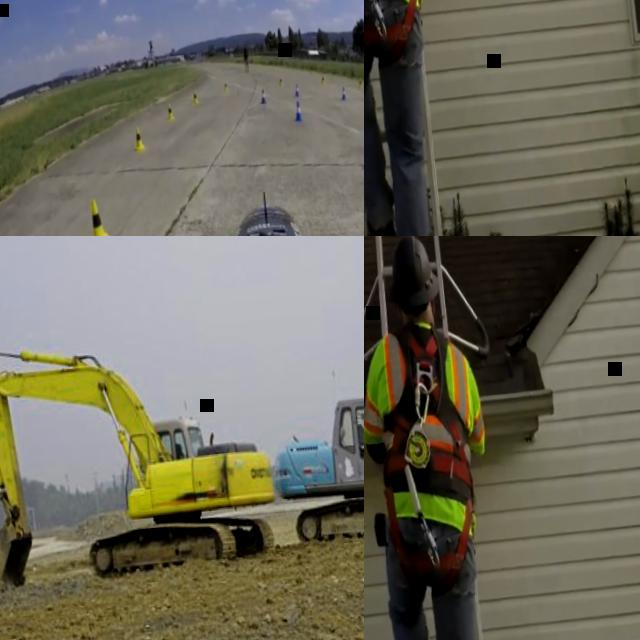Hardhat: (382, 236, 441, 309)
NO-Safety Vest: (243, 47, 248, 59)
Person: (364, 236, 521, 640), (364, 0, 468, 236), (241, 43, 250, 71), (175, 443, 185, 460), (357, 422, 364, 445)
Safety Cone: (83, 198, 114, 236), (133, 126, 146, 151), (292, 98, 304, 124), (166, 101, 176, 122), (359, 135, 364, 172), (258, 87, 267, 106), (339, 84, 347, 101), (293, 81, 301, 97), (191, 89, 198, 105), (357, 74, 363, 88), (277, 74, 283, 85), (320, 72, 325, 85), (223, 80, 228, 92)
Safety Vest: (364, 322, 491, 511)
vehicle: (0, 291, 280, 594), (257, 280, 364, 551), (100, 166, 364, 236)
